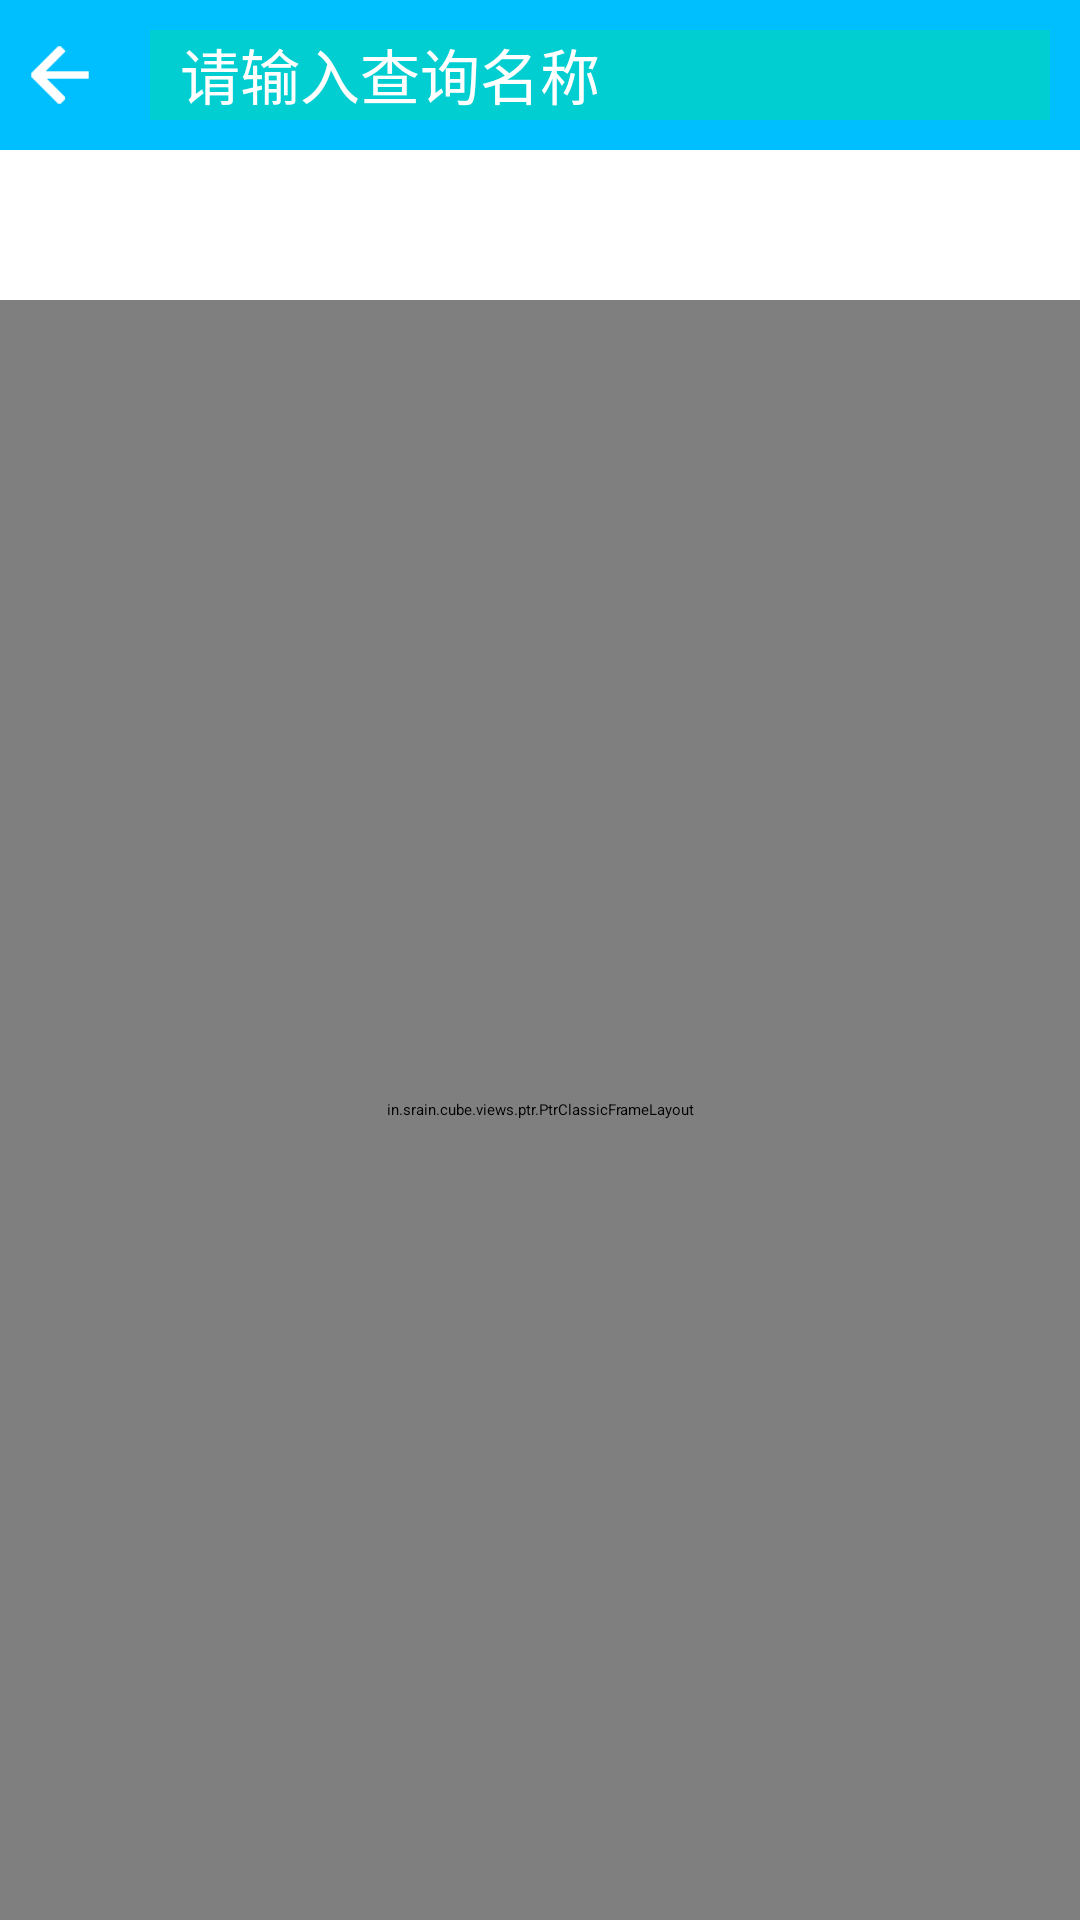

Where to tap for icons on this 1080px x 1920px app screen, as (x,y):
rbak: (60,75)
